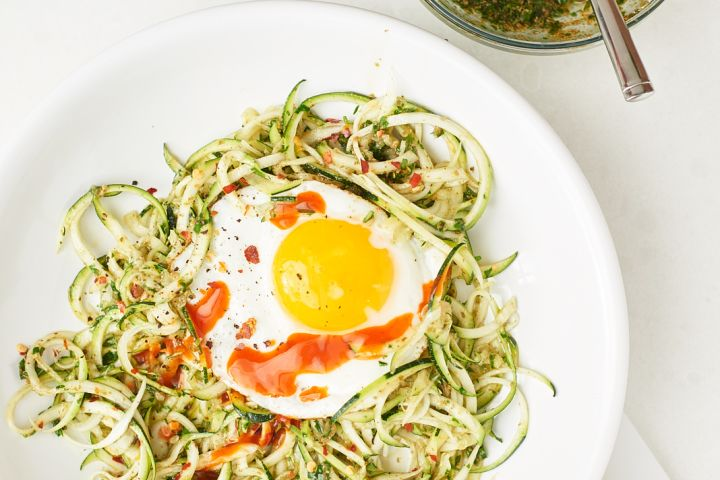fried egg: (216, 202, 403, 396)
plain spaghetti: (141, 402, 467, 476)
